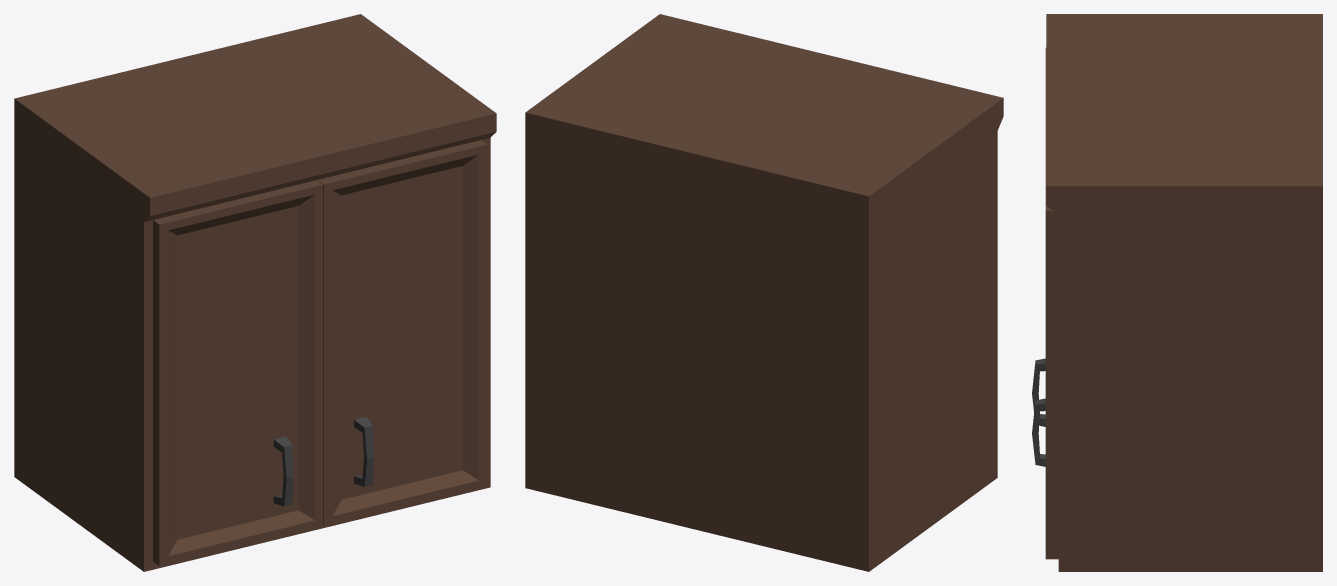
The model's file is SM_Prop_KitchenCabinet_01.fbx.
3 views of the same model, side by side, from view 1: azimuth 30°, elevation 25°; view 2: azimuth 150°, elevation 25°; view 3: azimuth 270°, elevation 25° (orthographic). The views are drawn at different scales.
Visible parts, largest first — view 1: SM_Prop_KitchenCabinet_01; view 2: SM_Prop_KitchenCabinet_01; view 3: SM_Prop_KitchenCabinet_01.
Boxes of the visible parts, x1,y1,x2,y2 form: SM_Prop_KitchenCabinet_01: (14, 14, 496, 571); SM_Prop_KitchenCabinet_01: (525, 14, 1003, 571); SM_Prop_KitchenCabinet_01: (1032, 14, 1322, 571).
Bounding box in the file's own units: 100 × 104 × 71.3.
